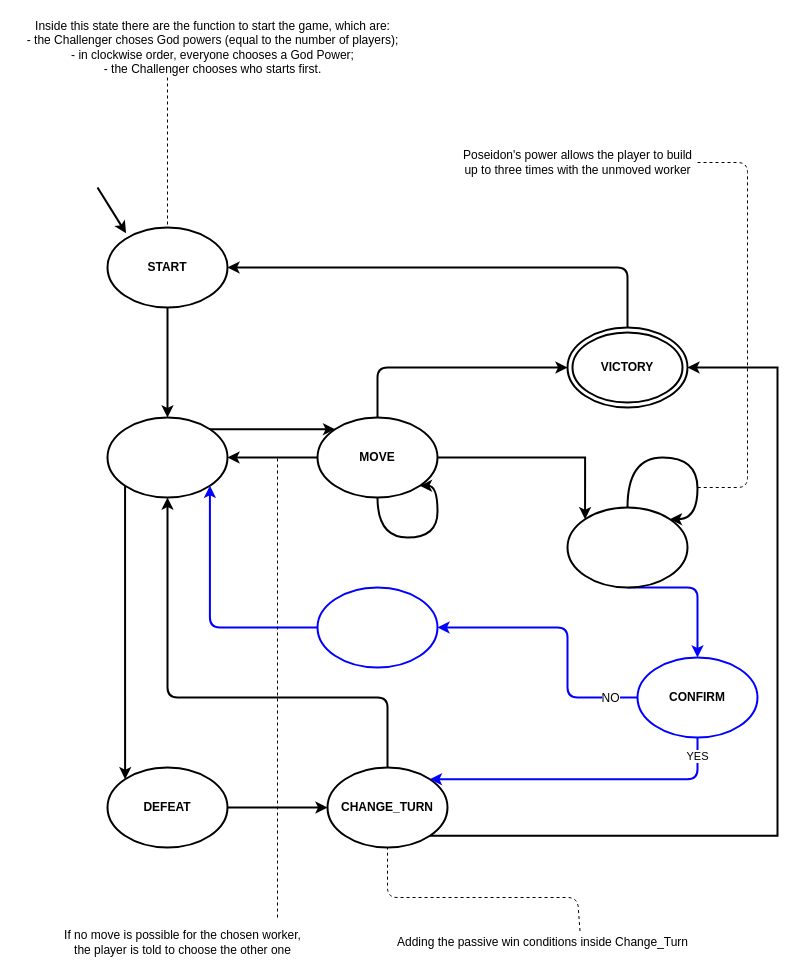
This 803x974 diagram has some shape labels left out. The centre of each missing label's shape, as x and y in pixels:
BUILD: the point at 627,547
CHOOSE_WORKER: the point at 167,457
UNDO: the point at 377,627
